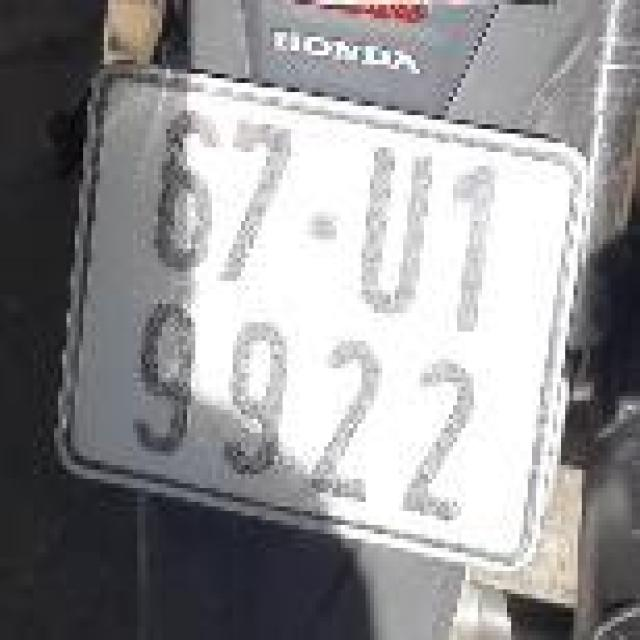1: (449, 157, 507, 346)
2: (397, 345, 480, 539), (316, 332, 386, 520)
6: (142, 99, 220, 283)
7: (220, 110, 299, 294)
9: (216, 308, 299, 492), (118, 286, 202, 465)
U: (343, 140, 434, 330)
